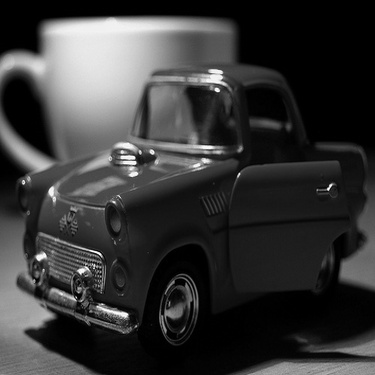car: (8, 59, 370, 360)
